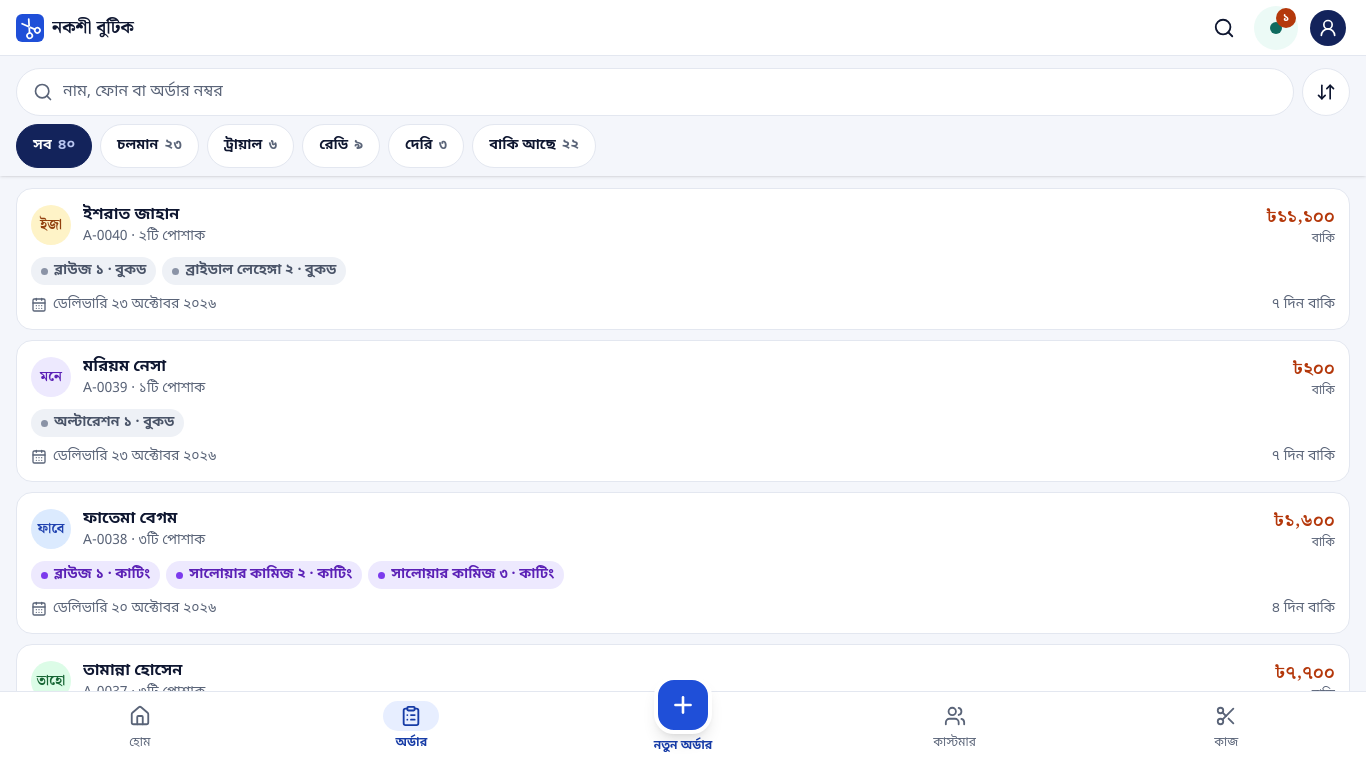
Test: Sync status › puts the change to review first on a phone, and names the online switch for the connection only
The image size is (1366, 768).
Step 1. Click the button "১" → (1276, 28), box [1254,6,1298,50]
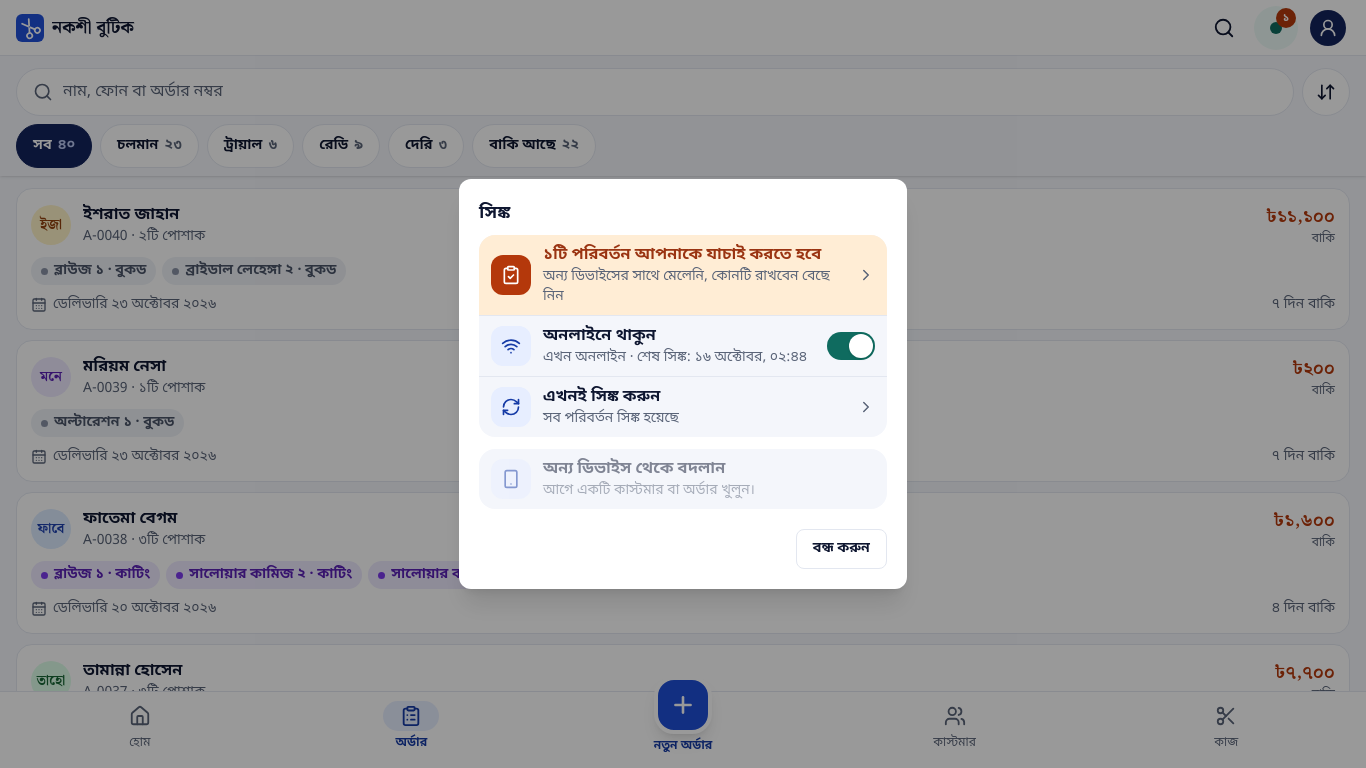
expect the link shows "১টি পরিবর্তন আপনাকে যাচাই করতে হবে": met, box [479,235,887,316]
expect the link shows "অন্য ডিভাইসের সাথে মেলেনি, কোনটি রাখবেন বেছে নিন": met, box [479,235,887,316]
expect the text "অনলাইনে থাকুন" is shown: met, box [543,325,656,347]
Step 2. Click the switch named "অফলাইনে যান" → (851, 346), box [827,332,875,360]
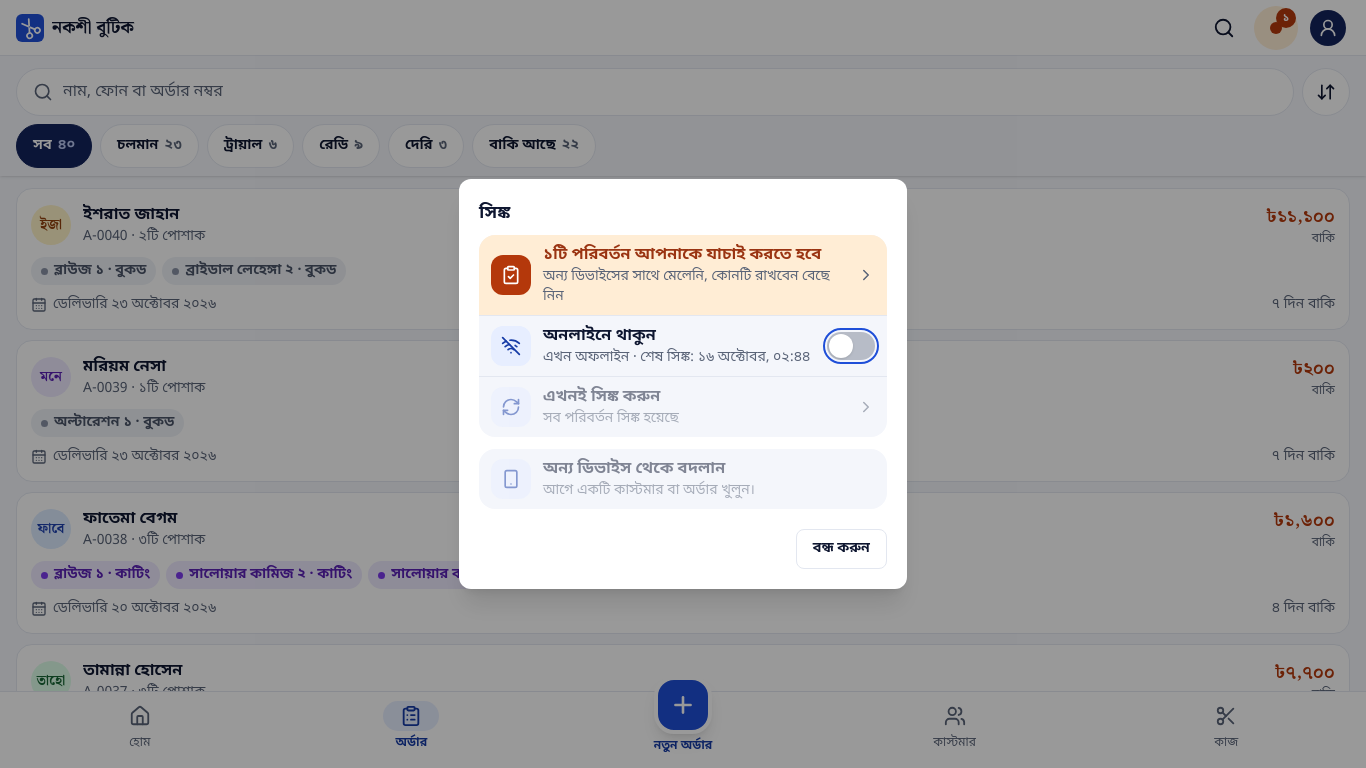
expect the text "এখন অফলাইন · শেষ সিঙ্ক: ১৬ অক্টোবর, ০২:৪৪" is shown: met, box [543,348,815,368]
expect the button named "অফলাইন · যাচাই বাকি ১" is shown: met, box [1254,6,1298,50]
